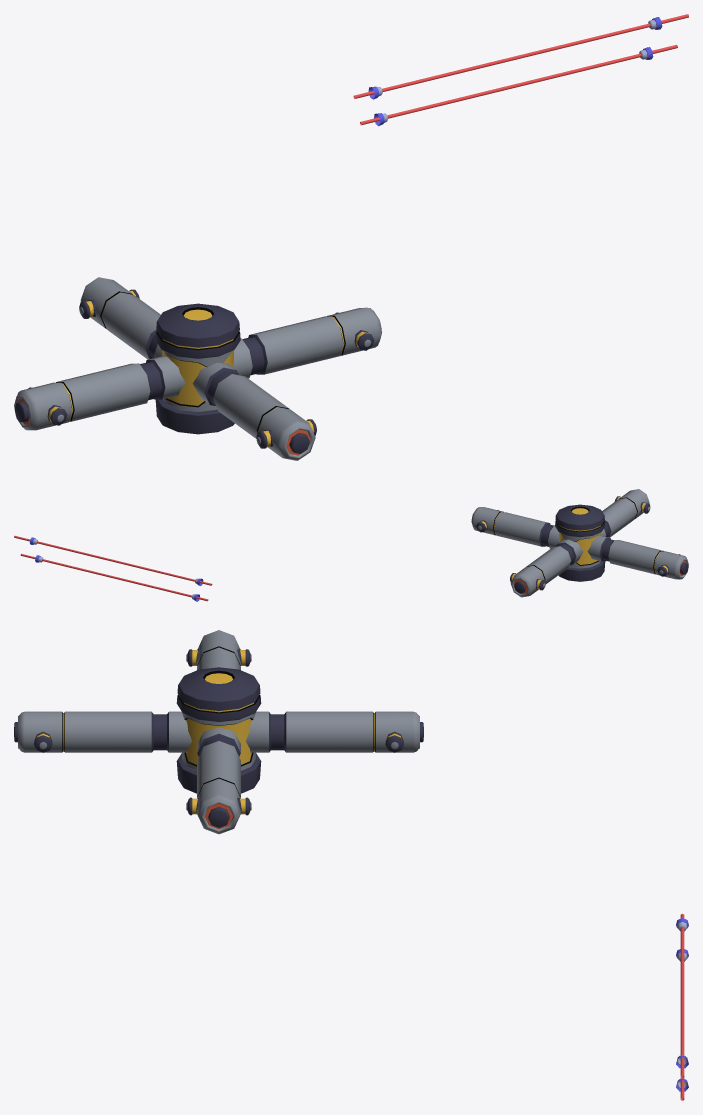
Rendered from Level19_Objects.fbx.
The picture shows the model from 3 angles, top to bottom: view 1: azimuth 30°, elevation 25°; view 2: azimuth 150°, elevation 25°; view 3: azimuth 270°, elevation 25°; orthographic projection. The views are drawn at different scales.
Visible parts, largest first — view 1: pCylinder14 (×4), pCylinder13, Laser (×2); view 2: pCylinder14 (×4), pCylinder13, Laser (×2); view 3: pCylinder14 (×4), pCylinder13, Laser.
Boxes of the visible parts, x1,y1,x2,y2 form: pCylinder14 (×4): (14, 277, 381, 460); pCylinder13: (155, 303, 240, 434); Laser (×2): (353, 14, 688, 125); pCylinder14 (×4): (471, 489, 688, 597); pCylinder13: (555, 504, 605, 581); Laser (×2): (14, 535, 212, 601); pCylinder14 (×4): (14, 630, 423, 834); pCylinder13: (176, 667, 261, 793); Laser: (680, 913, 684, 1078).
Size of the model in its own units: 297 by 33.22 by 194.
